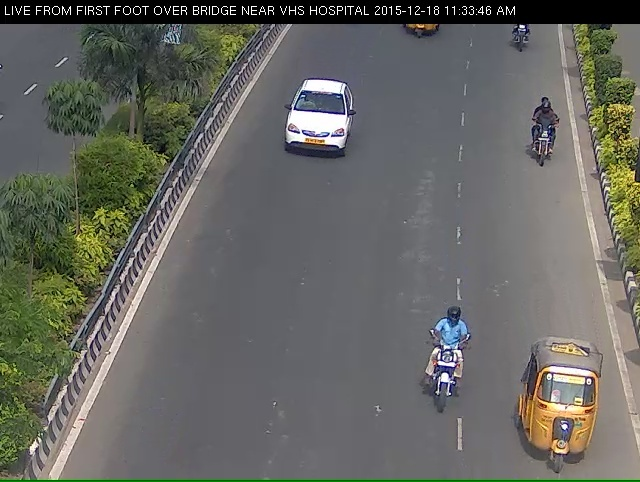Car: (517, 349, 606, 480), (273, 87, 364, 189), (397, 20, 442, 45)
Person: (418, 334, 469, 451), (525, 95, 561, 175), (505, 19, 547, 60)
